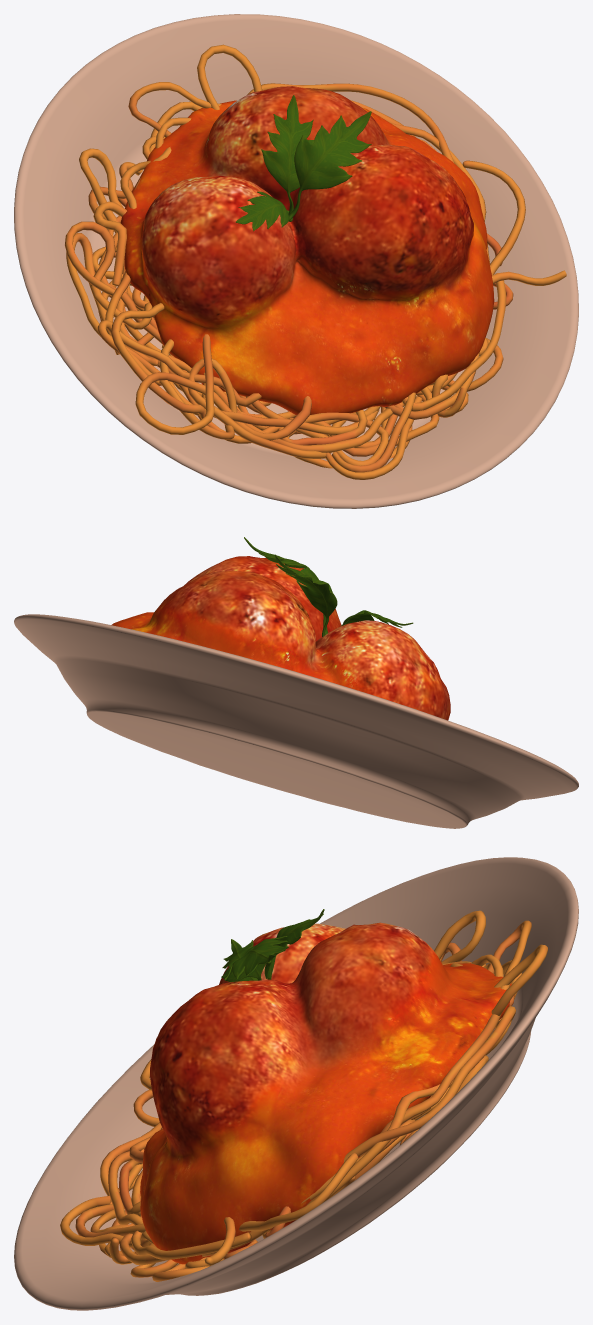
File: dish.glb
3 views of the same model, one above another, from view 1: azimuth 30°, elevation 25°; view 2: azimuth 150°, elevation 25°; view 3: azimuth 270°, elevation 25° (orthographic). The views are drawn at different scales.
Visible parts, largest first — view 1: node_id30; view 2: node_id30; view 3: node_id30.
Part boxes in pixels (left/top/right/bottom): node_id30: left=14, top=14, right=578, bottom=508; node_id30: left=14, top=537, right=578, bottom=828; node_id30: left=14, top=857, right=578, bottom=1310.
Bounding box in the file's own units: 0.3847 × 0.2224 × 0.3187.
1 material, 1 textured.
